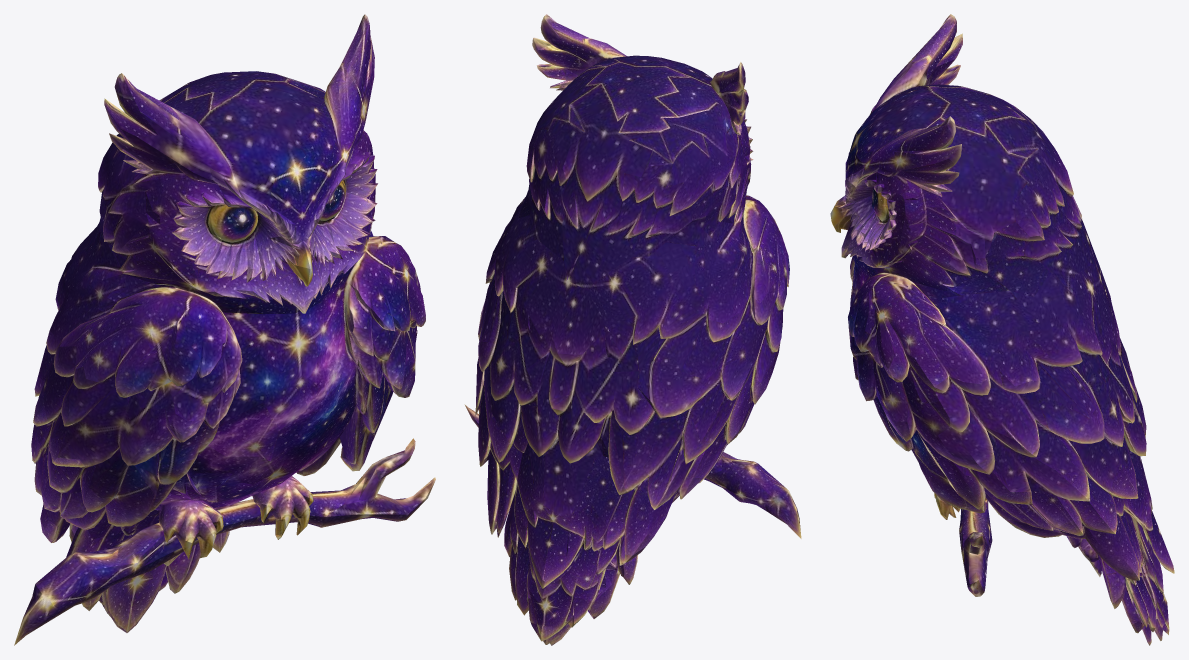
File: owl.glb
3 views of the same model, side by side, from view 1: azimuth 30°, elevation 25°; view 2: azimuth 150°, elevation 25°; view 3: azimuth 270°, elevation 25° (orthographic). The views are drawn at different scales.
Bounding box in the file's own units: 1.24 × 1.91 × 1.02.
Materials: 1 (1 with a texture image).
